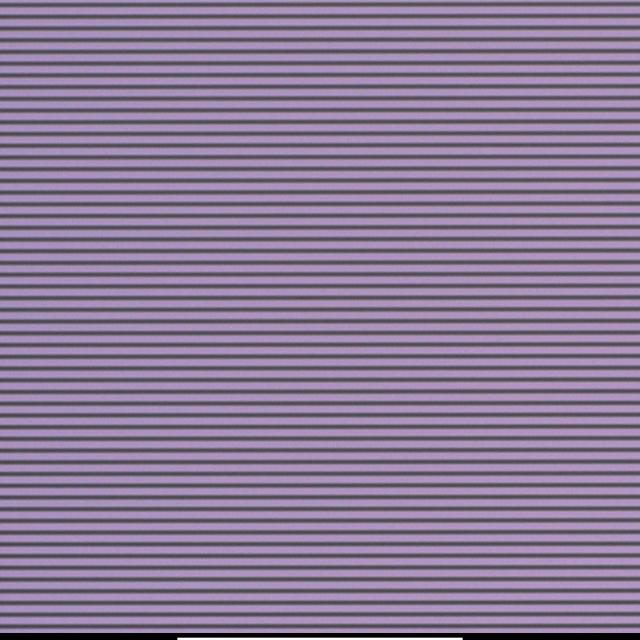nonvisual: (325, 305, 334, 314)
